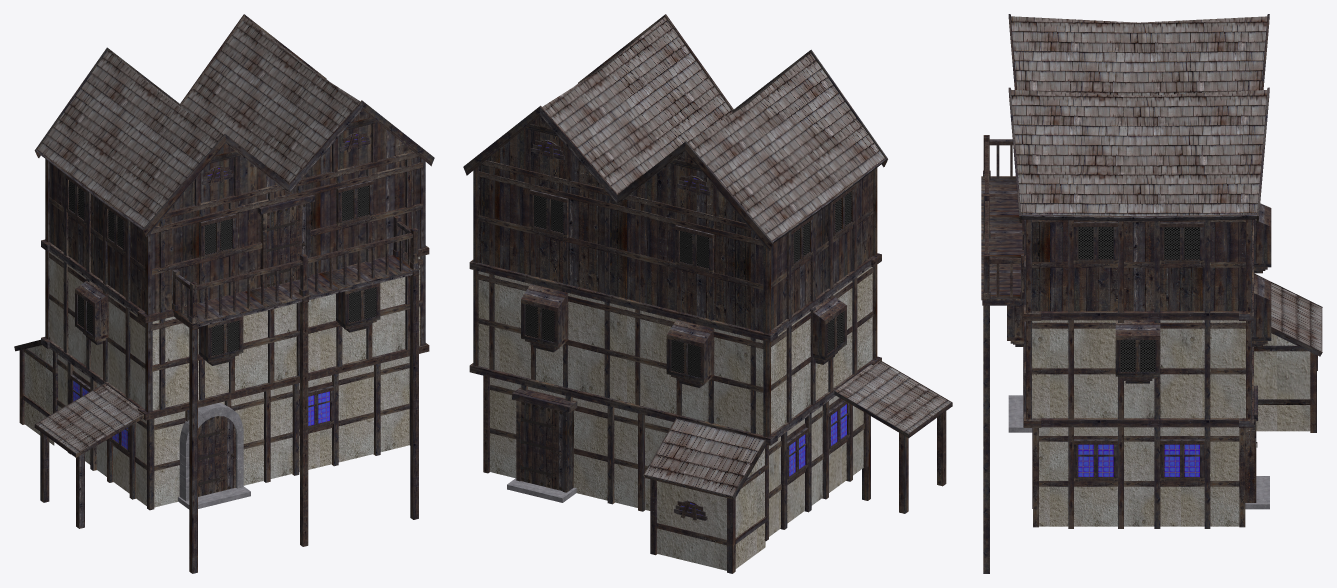
The model's file is house40.dae.
3 renders of one model, left to right at view 1: azimuth 30°, elevation 25°; view 2: azimuth 150°, elevation 25°; view 3: azimuth 270°, elevation 25°, orthographic. The views are drawn at different scales.
Visible parts, largest first — view 1: House2_Roof, House2_Level3, House2_Level2, House2_Level1, House2_Level3_Beams, House2_Level2_Beams, House2_Level1_Beams, Balcony4Stilts, Balcony4, House2_Roof_Frame, Roof2Outer, Balcony4Handles (+23 smaller); view 2: House2_Roof, House2_Level3, House2_Level2, House2_Level3_Beams, House2_Level1, House2_Level2_Beams, House2_Level1_Beams, BuildingExtensions4, BuildingExtensions4Roof, House2_Roof_Frame, Roof2Outer, House2_Level2_SeperatorBeams (+18 smaller); view 3: House2_Roof, House2_Level2, House2_Level3, House2_Level1, House2_Level1_Beams, House2_Level2_Beams, House2_Level3_Beams, Balcony4, BuildingExtensions4, House2_Roof_Frame, House2_Level1_SeperatorBeams, House2_Level2_SeperatorBeams (+21 smaller).
Boxes of the visible parts, x1,y1,x2,y2 form: House2_Roof: [38, 17, 360, 227]; House2_Level3: [49, 110, 420, 313]; House2_Level2: [49, 251, 420, 410]; House2_Level1: [58, 355, 409, 507]; House2_Level3_Beams: [45, 117, 425, 315]; House2_Level2_Beams: [45, 250, 425, 412]; House2_Level1_Beams: [53, 351, 410, 510]; Balcony4Stilts: [189, 275, 418, 573]; Balcony4: [172, 215, 420, 325]; House2_Roof_Frame: [34, 14, 434, 236]; Roof2Outer: [36, 384, 142, 453]; Balcony4Handles: [176, 221, 412, 318]; House2_Roof: [542, 17, 884, 240]; House2_Level3: [478, 116, 872, 331]; House2_Level2: [478, 267, 872, 435]; House2_Level3_Beams: [473, 124, 877, 333]; House2_Level1: [490, 377, 863, 536]; House2_Level2_Beams: [473, 265, 877, 437]; House2_Level1_Beams: [483, 375, 868, 541]; BuildingExtensions4: [657, 448, 765, 570]; BuildingExtensions4Roof: [645, 419, 764, 495]; House2_Roof_Frame: [463, 14, 887, 250]; Roof2Outer: [835, 361, 950, 433]; House2_Level2_SeperatorBeams: [469, 253, 881, 342]; House2_Roof: [1011, 16, 1267, 216]; House2_Level2: [1032, 320, 1245, 418]; House2_Level3: [1032, 222, 1245, 311]; House2_Level1: [1039, 427, 1239, 526]; House2_Level1_Beams: [1032, 427, 1245, 528]; House2_Level2_Beams: [1024, 320, 1251, 419]; House2_Level3_Beams: [1024, 219, 1251, 312]; Balcony4: [981, 135, 1024, 300]; BuildingExtensions4: [1254, 333, 1310, 431]; House2_Roof_Frame: [1008, 14, 1269, 222]; House2_Level1_SeperatorBeams: [1023, 347, 1253, 427]; House2_Level2_SeperatorBeams: [1023, 219, 1253, 320].
Bounding box in the file's own units: 10.29 × 7.65 × 11.43.
Materials: 27 (27 with a texture image).
